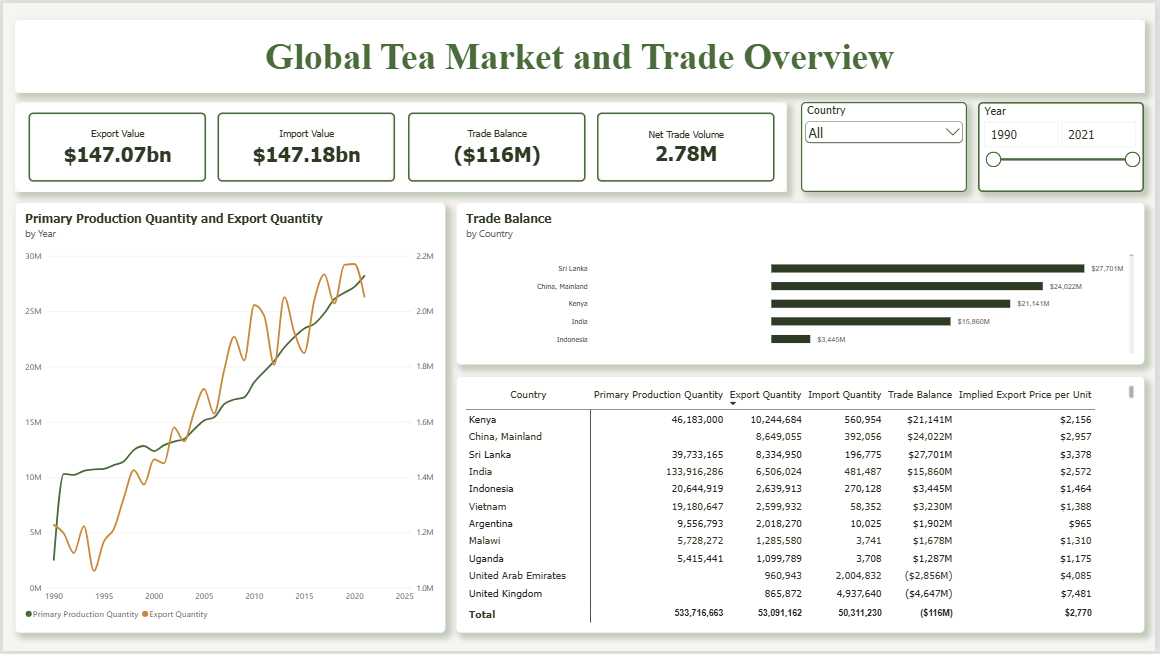

What the dashboard file says about the page in this screenshot:
{"tool":"powerbi","page":{"name":"Page 1","canvas":[1920,1080],"ordinal":0},"visuals":[{"type":"shape","box":[19.1,164.6,1286,150.3],"z":0},{"type":"lineChart","fields":{"Category":["Dim_Date.Year"],"Y":["_Measures.Primary Production Quantity"],"Y2":["_Measures.Export Quantity"]},"box":[20,332.5,717.5,717.5],"z":1000},{"type":"clusteredBarChart","fields":{"Category":["Dim_Country.Country"],"Y":["_Measures.Trade Balance"]},"box":[755,332.5,1147.5,270],"z":2000},{"type":"pivotTable","fields":{"Rows":["Dim_Country.Country"],"Values":["_Measures.Primary Production Quantity","_Measures.Export Quantity","_Measures.Import Quantity","_Measures.Trade Balance","_Measures.Implied Export Price per Unit"]},"box":[755,622.5,1147.5,427.5],"z":3000},{"type":"slicer","fields":{"Values":["Dim_Country.Country"]},"box":[1329,164.6,276.8,150.3],"z":4000},{"type":"slicer","fields":{"Values":["Dim_Date.Year"]},"box":[1624.8,164.6,276.8,150.3],"z":5000},{"type":"shape","box":[20,27.5,1882.5,122.5],"z":6000},{"type":"cardVisual","fields":{"Data":["_Measures.Export Value"]},"box":[42.5,182.5,296.2,115],"z":7000},{"type":"cardVisual","fields":{"Data":["_Measures.Import Value"]},"box":[356.2,182.5,296.2,115],"z":8000},{"type":"cardVisual","fields":{"Data":["_Measures.Trade Balance"]},"box":[673.8,182.5,296.2,115],"z":9000},{"type":"cardVisual","fields":{"Data":["_Measures.Net Trade Volume"]},"box":[990,182.5,296.2,115],"z":10000}]}

Visuals, with their boxes in screenshot pixels (x1, y1, x2, y2), scaled from the page's 1920x1080 canvas onto the 1160x654 screenshot:
shape: <box>12,100,788,191</box>
lineChart - Dim_Date.Year x _Measures.Primary Production Quantity: <box>12,201,446,636</box>
clusteredBarChart - Dim_Country.Country x _Measures.Trade Balance: <box>456,201,1149,365</box>
pivotTable - Dim_Country.Country x _Measures.Primary Production Quantity: <box>456,377,1149,636</box>
slicer - Dim_Country.Country: <box>803,100,970,191</box>
slicer - Dim_Date.Year: <box>982,100,1149,191</box>
shape: <box>12,17,1149,91</box>
cardVisual - _Measures.Export Value: <box>26,111,205,180</box>
cardVisual - _Measures.Import Value: <box>215,111,394,180</box>
cardVisual - _Measures.Trade Balance: <box>407,111,586,180</box>
cardVisual - _Measures.Net Trade Volume: <box>598,111,777,180</box>
